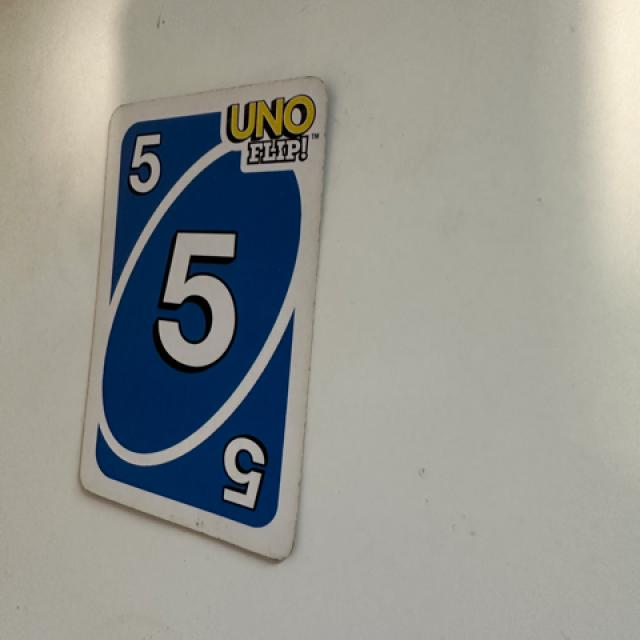lblue-5: (116, 116, 184, 212)
